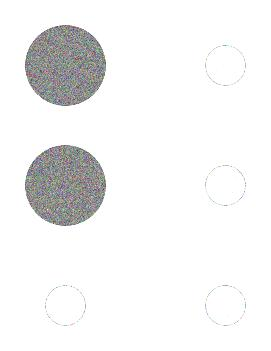B: (21, 17, 255, 333)
